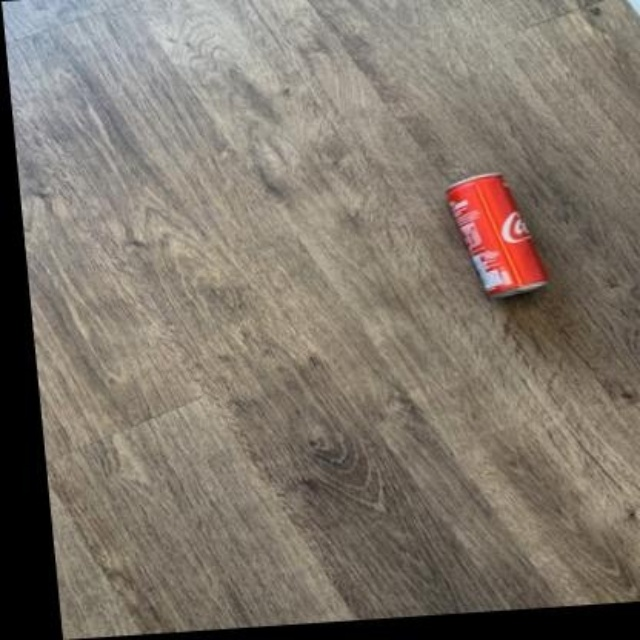trash: (446, 174, 546, 295)
